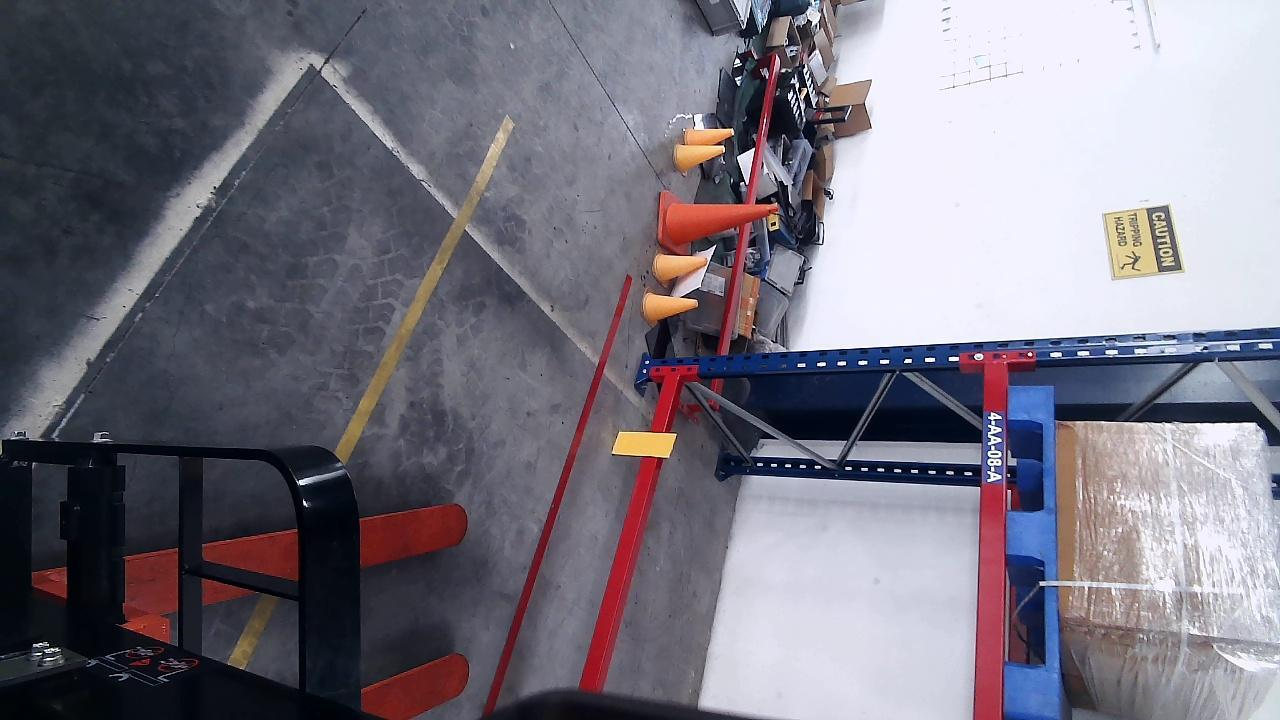h_rack: (577, 375, 681, 696), (971, 362, 1007, 720)
orange_strip: (611, 430, 675, 454)
red_line: (478, 276, 636, 718)
small_pallet: (1003, 384, 1060, 720)
yellow_line: (334, 115, 518, 463)
